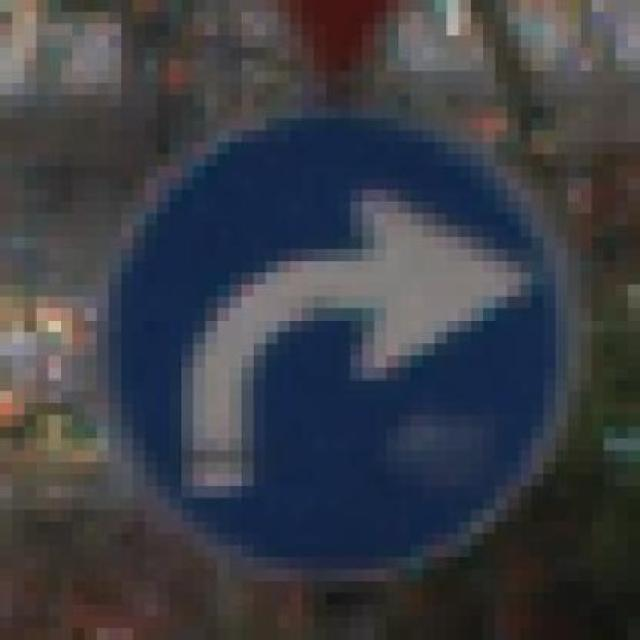Turn right ahead: (60, 87, 592, 585)
